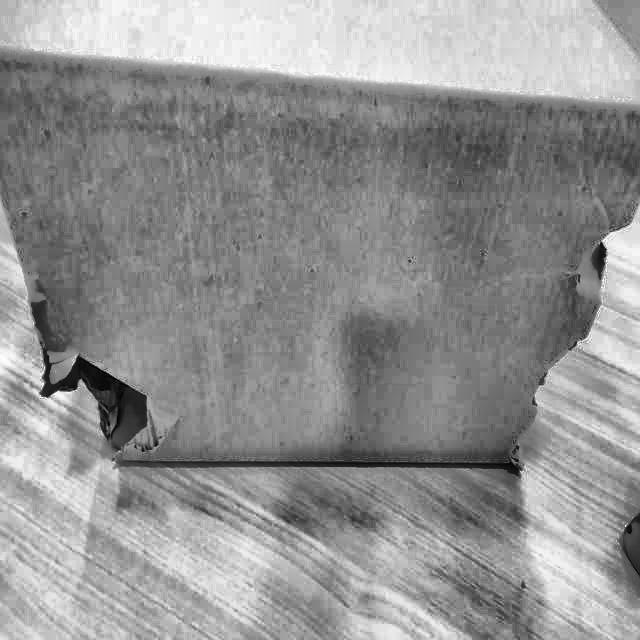box: (0, 0, 639, 493)
hole: (502, 195, 631, 479), (40, 332, 160, 482)
